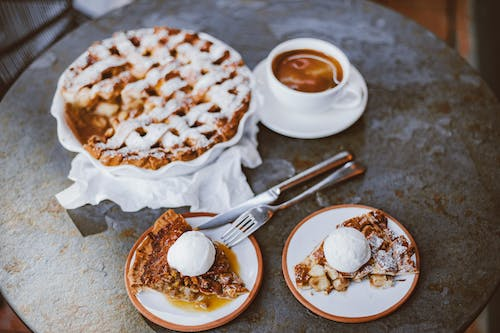knife: (195, 149, 354, 232)
